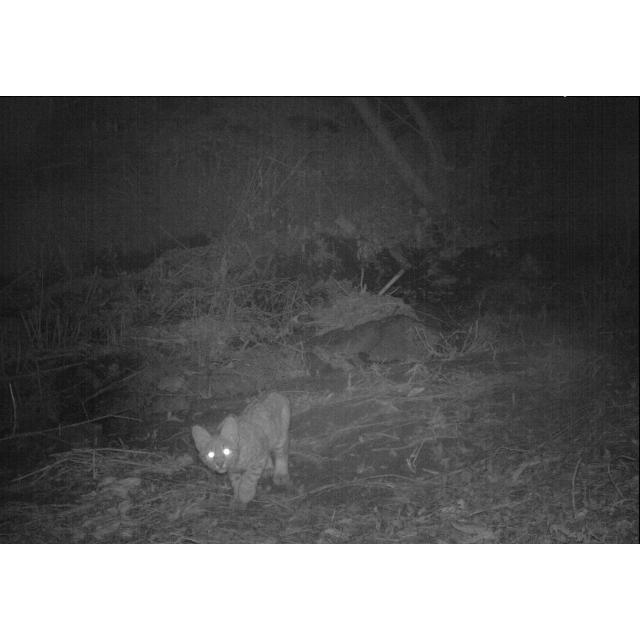animals: (188, 386, 296, 514)
